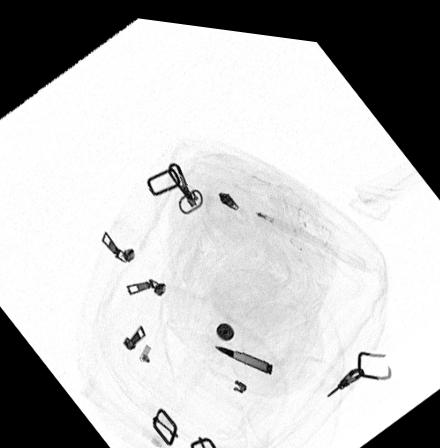Bullet: (214, 339, 273, 368)
